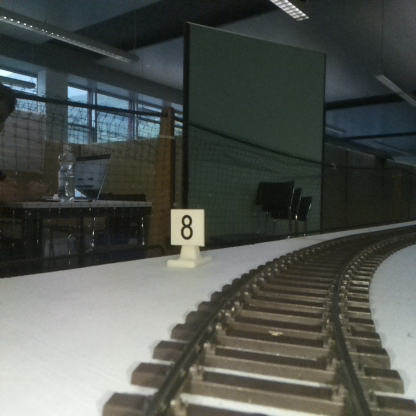white-stop-8: (171, 208, 203, 265)
